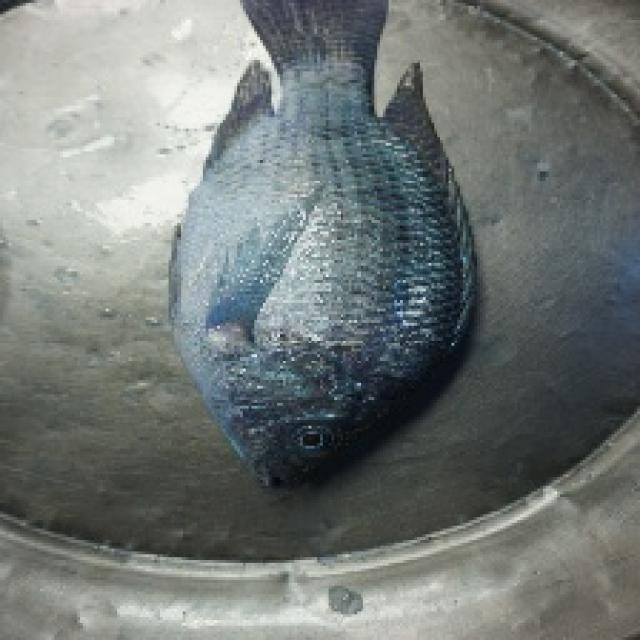Fresh: (170, 6, 496, 519)
